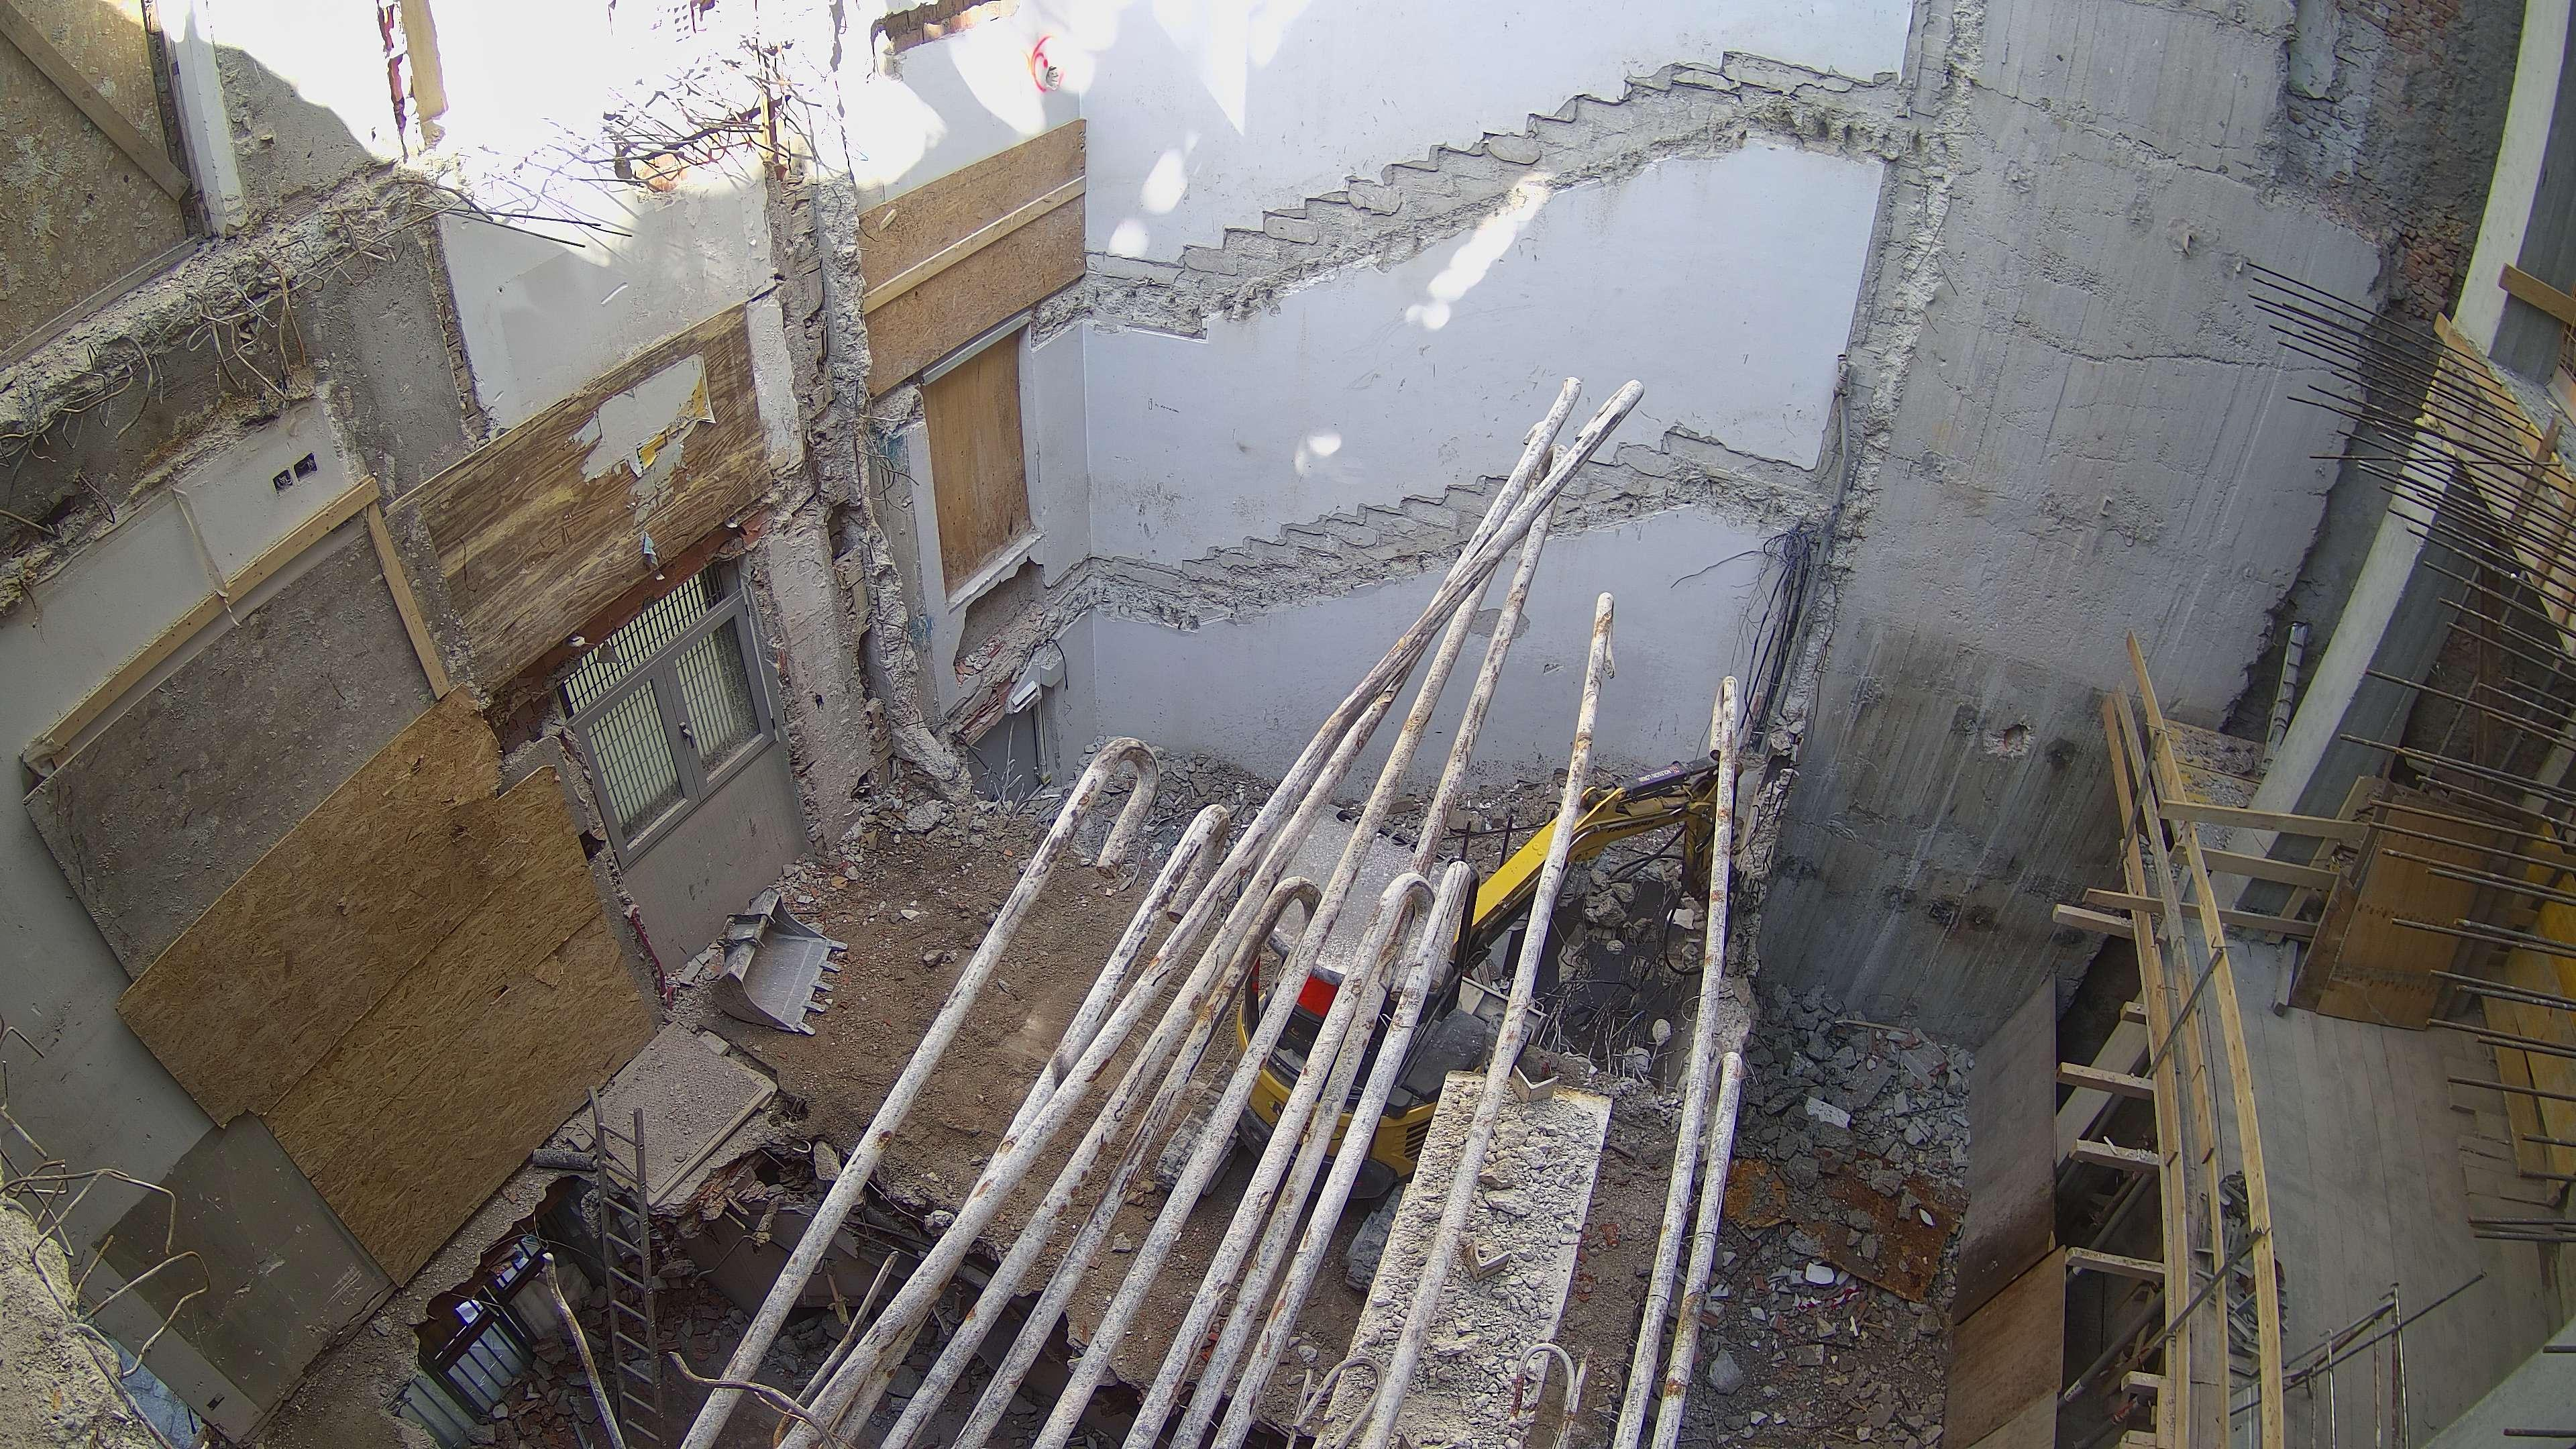excavator: (1152, 754, 1729, 1297)
